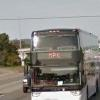Bus: (24, 26, 96, 100)
